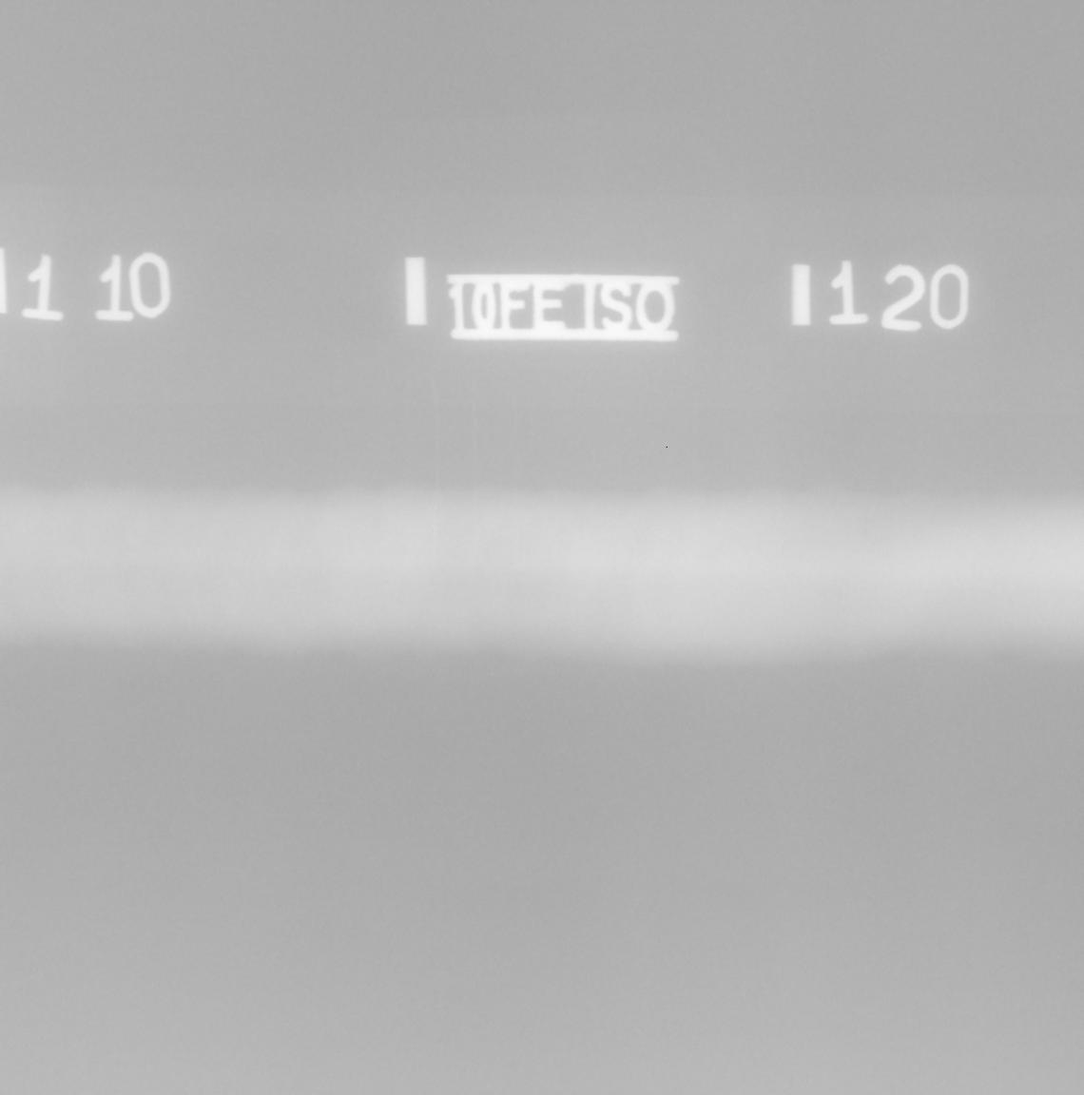Pore/Porosity: (862, 530, 868, 534)
